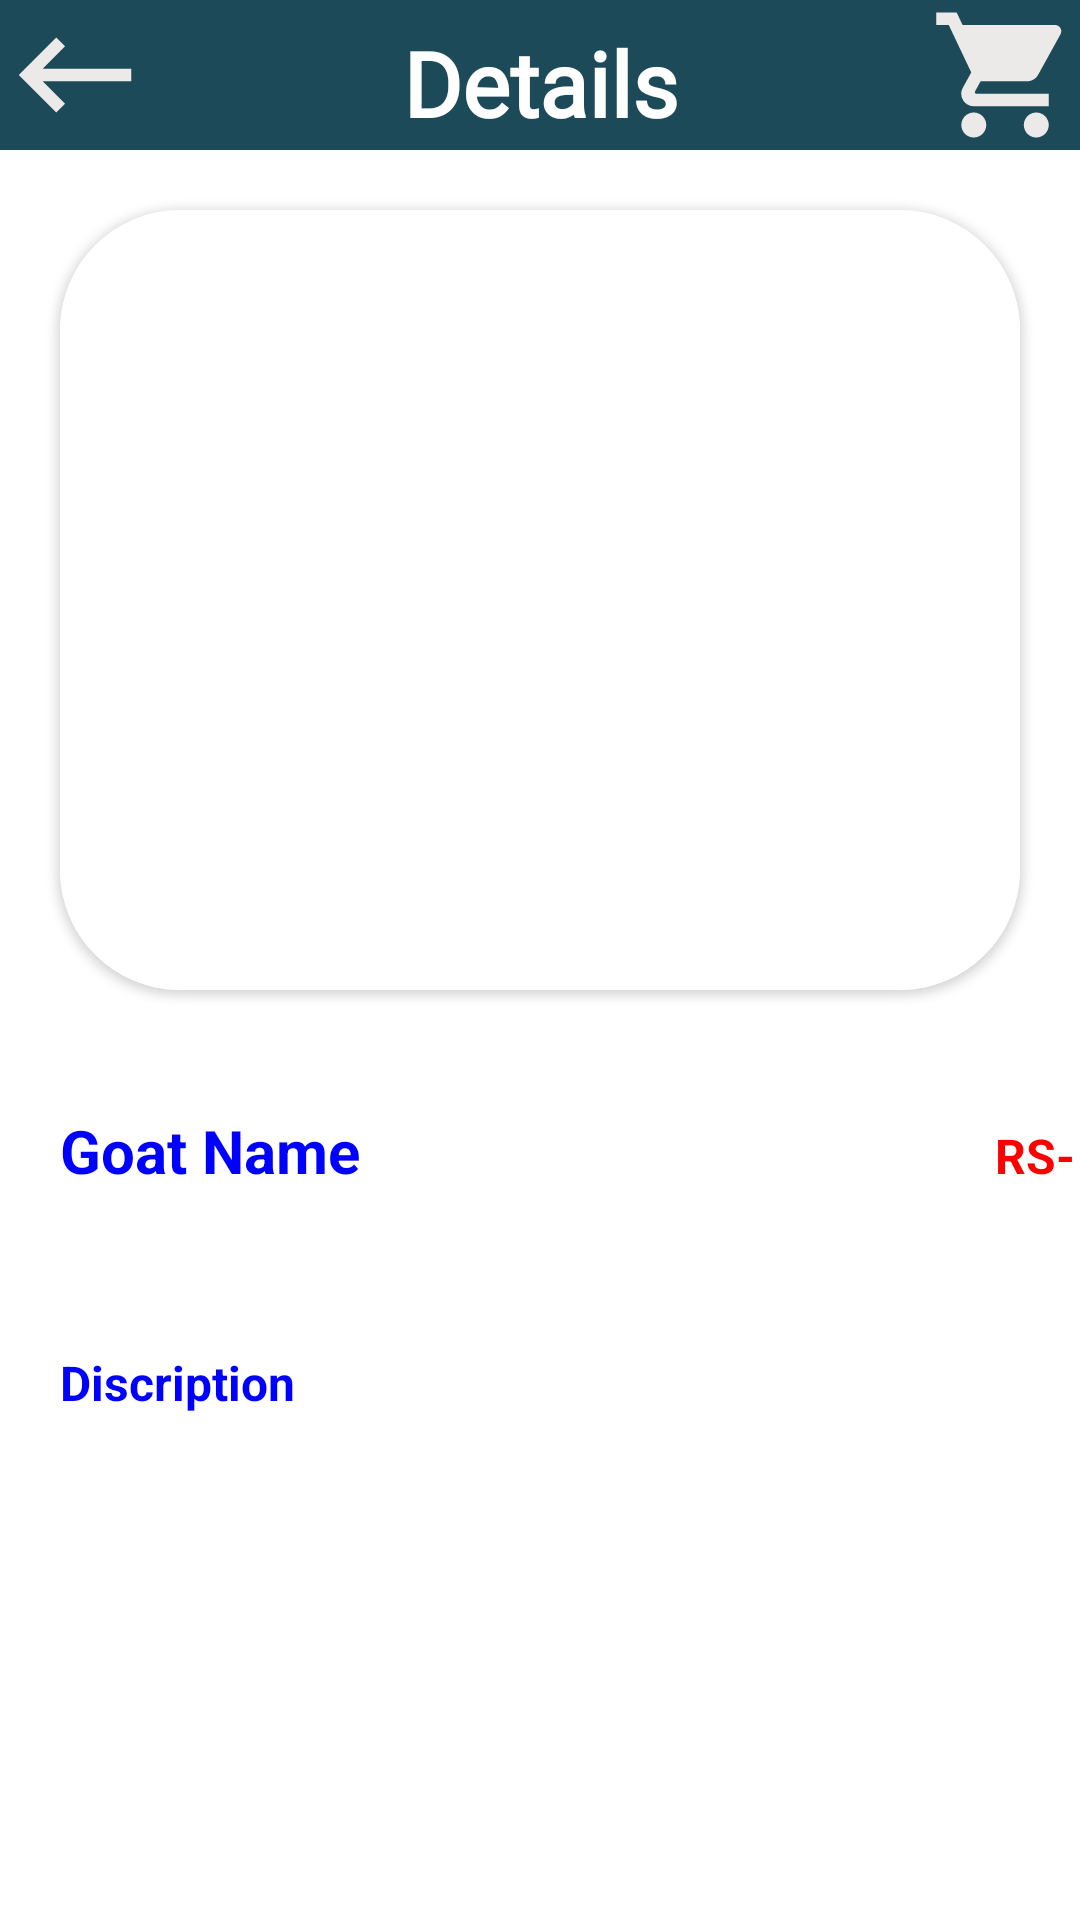

Icons on this 1080*1920 Android screen, each with the point to tap as point (x, y):
keyboard backspace: point (75, 75)
shopping cart: point (999, 75)
